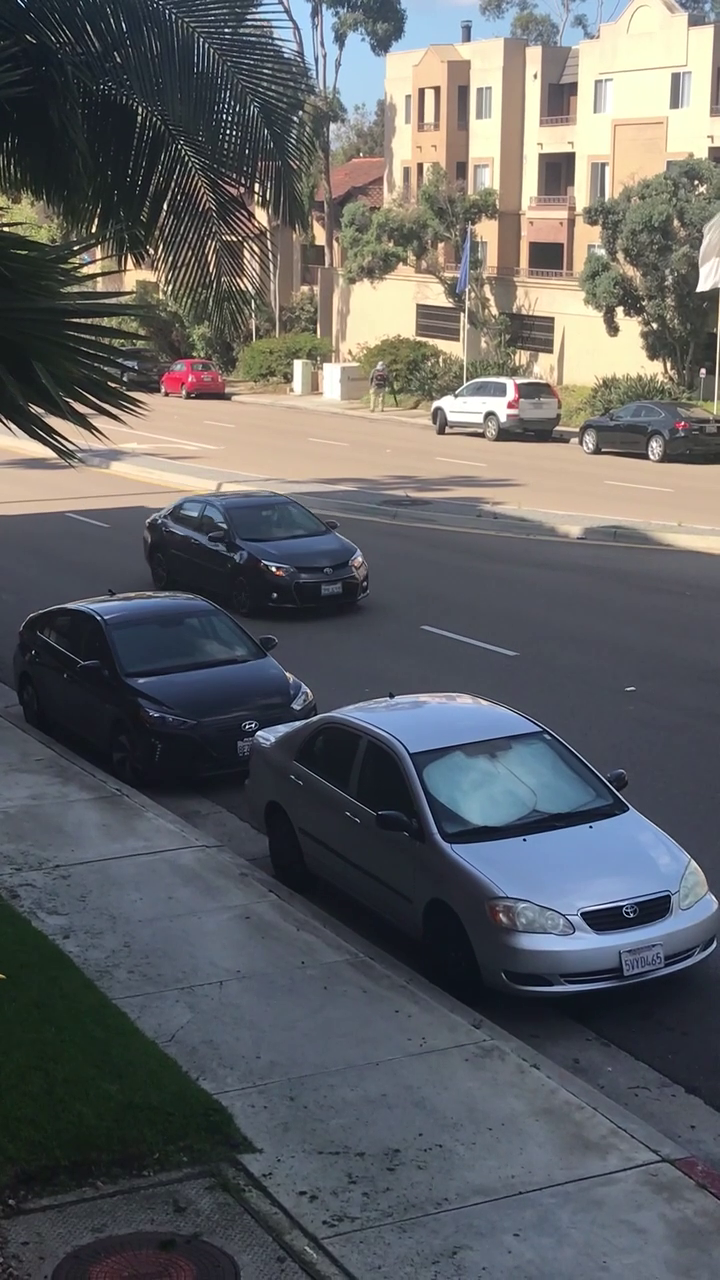car: (234, 684, 703, 1020), (19, 622, 313, 791), (151, 493, 371, 613)
